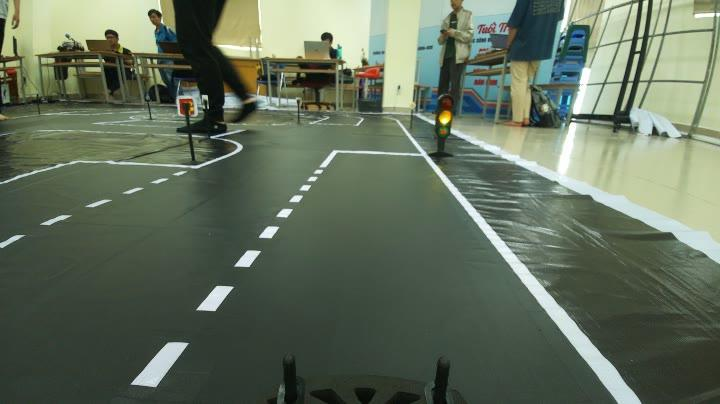trafficlight: (423, 88, 460, 166)
